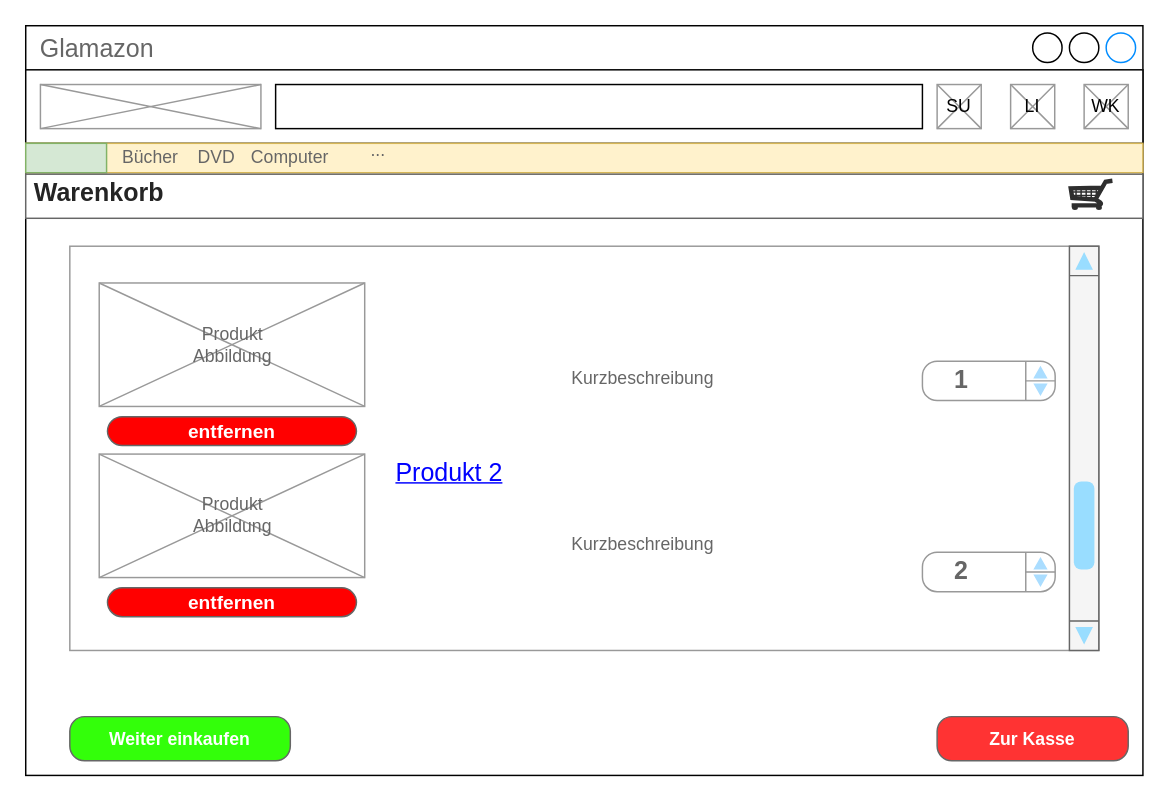
The diagram is 1169 pixels wide and 801 high, and some of its shapes have lost their labels. The centre of each missing label's shape, as x and y in pixels:
"Logo" goes at point (150, 106).
"OOO" goes at point (65, 157).
"Produkt 1" goes at point (583, 304).
"Suchleiste (dynamisch über Suchbutton)" goes at point (598, 106).
